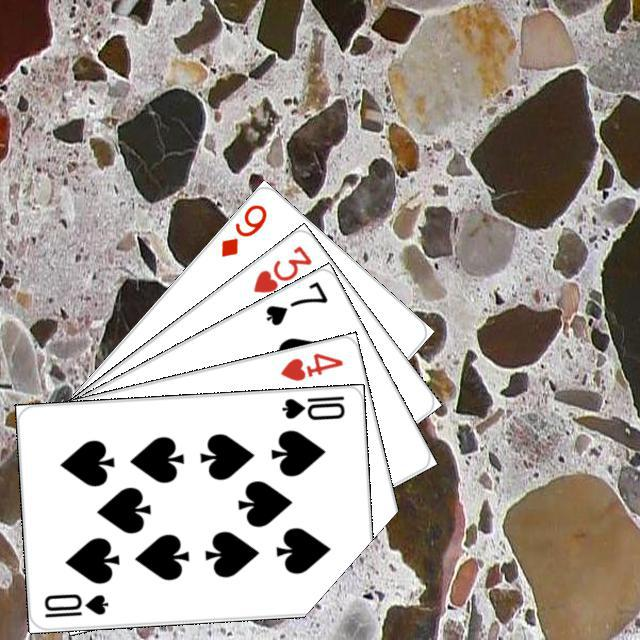10s: (39, 588, 110, 619), (277, 391, 347, 422)
3h: (248, 240, 314, 295)
4h: (275, 348, 345, 383)
7s: (260, 276, 330, 328)
9d: (215, 199, 269, 259)
